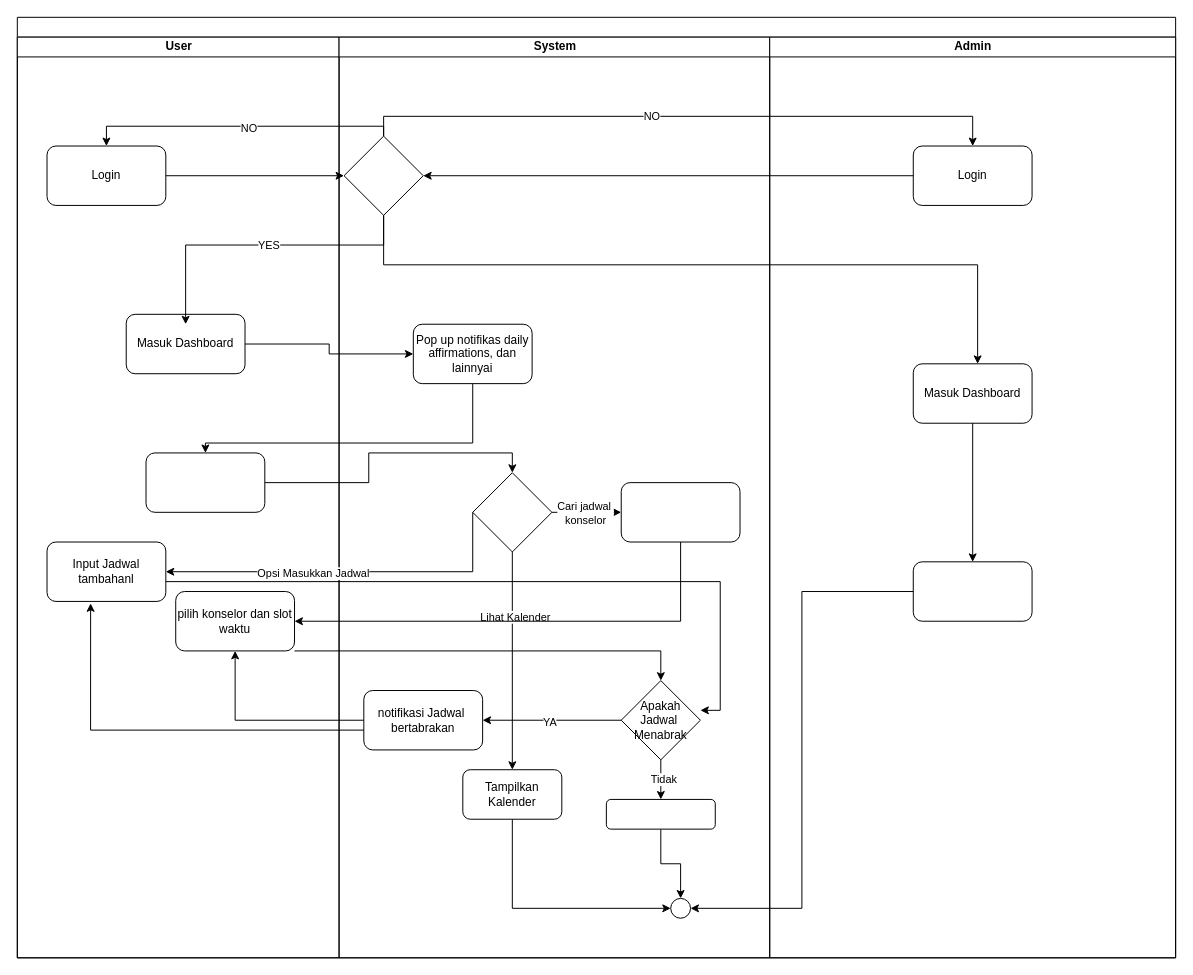
The diagram is 1193 pixels wide and 975 high, and some of its shapes have lost their labels. Here are the shapes that lost their labels. From the top down, the centre of each, then its label:
At point 383,175: "User Valid?".
At point 205,482: "User memilih Opsi".
At point 512,512: "User memliih opsi apa".
At point 680,512: "Buka database ketersediaan conselor".
At point 972,591: "Cek sistem".
At point 660,813: "Jadwal disimpan".
